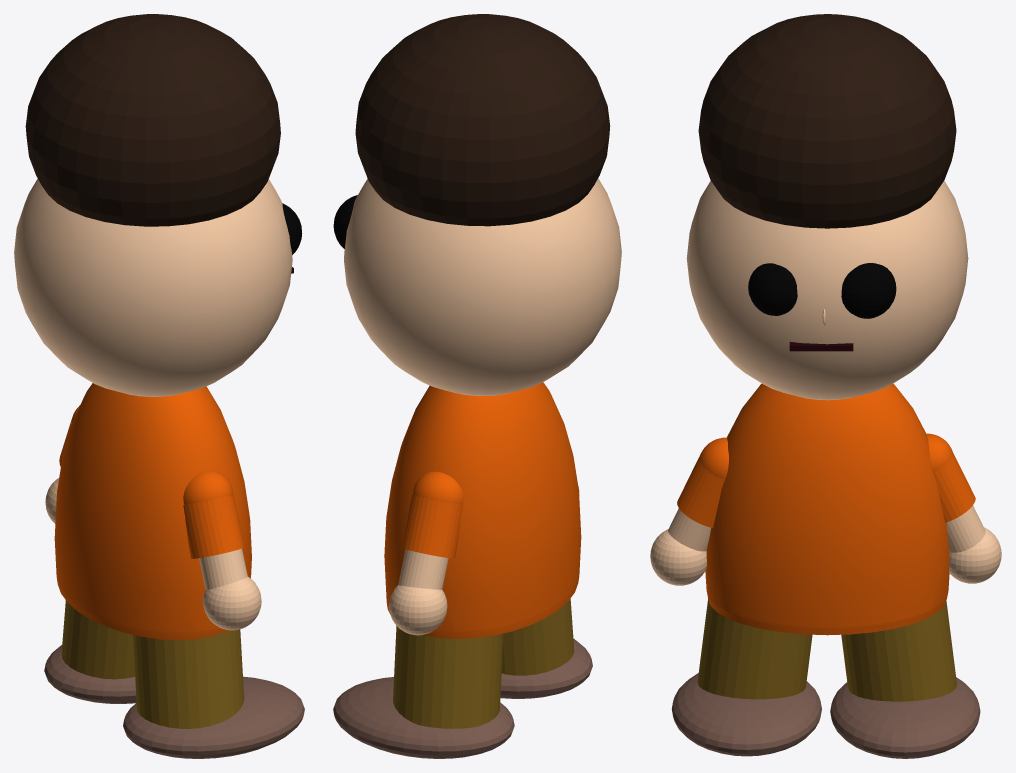
The model's file is avatar.glb.
3 renders of one model, left to right at view 1: azimuth 30°, elevation 25°; view 2: azimuth 150°, elevation 25°; view 3: azimuth 270°, elevation 25°, orthographic.
Parts seen in each view (by area): view 1: cabelo, cabeca, tronco, pernaE, Sphere.002, pernaD, mangaE, Sphere.003, Sphere, Cylinder, ombroE, olhoE; view 2: cabelo, cabeca, tronco, pernaD, Sphere.003, pernaE, mangaD, Sphere.002, Sphere.001, bracoD, ombroD, olhoD; view 3: tronco, cabelo, cabeca, pernaD, Sphere.003, Sphere.002, pernaE, olhoD, Sphere, olhoE, mangaE, Sphere.001 (+5 smaller).
Boxes of the visible parts, left/top/right/bottom form: cabelo: left=25, top=14, right=280, bottom=226; cabeca: left=14, top=179, right=292, bottom=396; tronco: left=54, top=383, right=251, bottom=640; pernaE: left=133, top=629, right=244, bottom=728; Sphere.002: left=123, top=676, right=304, bottom=758; pernaD: left=61, top=600, right=134, bottom=679; mangaE: left=183, top=495, right=244, bottom=558; Sphere.003: left=44, top=645, right=136, bottom=703; Sphere: left=203, top=576, right=261, bottom=630; Cylinder: left=199, top=548, right=247, bottom=589; ombroE: left=183, top=470, right=233, bottom=504; olhoE: left=282, top=203, right=302, bottom=254; cabelo: left=355, top=14, right=610, bottom=226; cabeca: left=344, top=178, right=621, bottom=395; tronco: left=384, top=382, right=581, bottom=638; pernaD: left=393, top=625, right=503, bottom=728; Sphere.003: left=333, top=677, right=514, bottom=758; pernaE: left=501, top=598, right=574, bottom=675; mangaD: left=401, top=493, right=462, bottom=558; Sphere.002: left=500, top=638, right=592, bottom=698; Sphere.001: left=389, top=585, right=447, bottom=635; bracoD: left=398, top=549, right=448, bottom=589; ombroD: left=412, top=471, right=463, bottom=504; olhoD: left=333, top=195, right=357, bottom=248; tronco: left=705, top=383, right=949, bottom=635; cabelo: left=698, top=14, right=956, bottom=228; cabeca: left=686, top=180, right=968, bottom=400; pernaD: left=841, top=601, right=956, bottom=701; Sphere.003: left=830, top=677, right=980, bottom=758; Sphere.002: left=671, top=673, right=821, bottom=756; pernaE: left=697, top=598, right=812, bottom=699; olhoD: left=841, top=263, right=896, bottom=318; Sphere: left=650, top=529, right=706, bottom=585; olhoE: left=748, top=263, right=797, bottom=315; mangaE: left=677, top=456, right=724, bottom=527; Sphere.001: left=949, top=527, right=1001, bottom=583.
Bounding box in the file's own units: 9.03 × 24.14 × 11.01.
